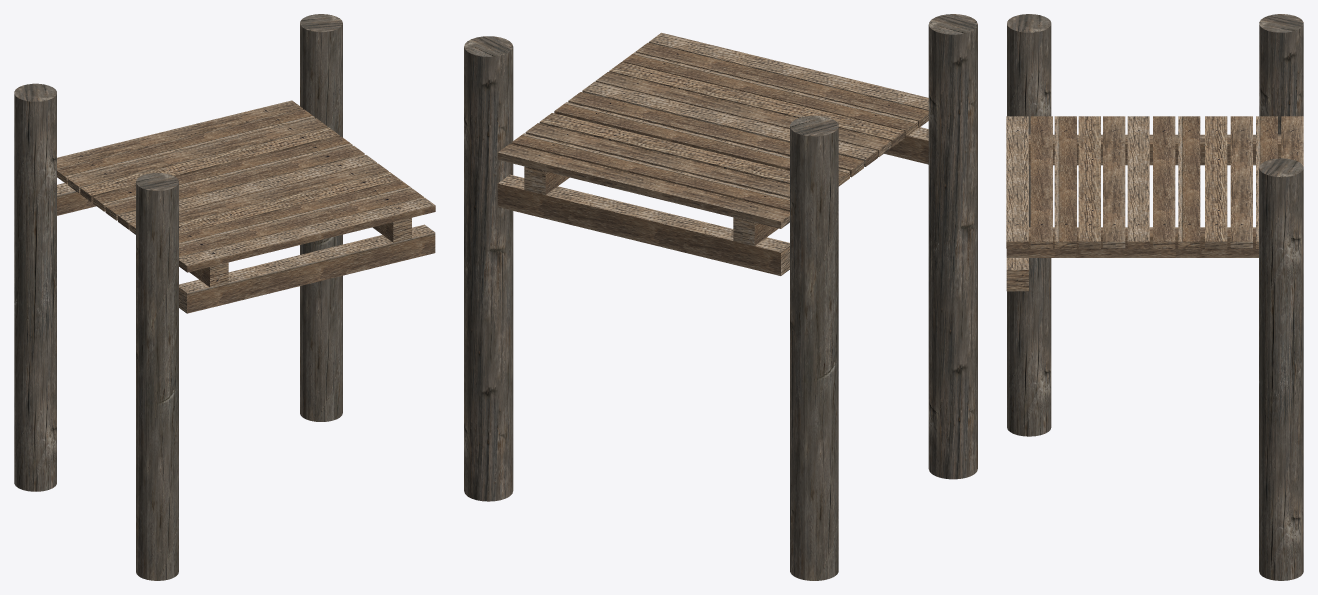
The model's file is Kit plataforma .fbx.
3 renders of one model, left to right at view 1: azimuth 30°, elevation 25°; view 2: azimuth 150°, elevation 25°; view 3: azimuth 270°, elevation 25°, orthographic. The views are drawn at different scales.
Parts seen in each view (by area): view 1: Piso madera 4x4, posteconviga, poste.001, viga; view 2: posteconviga, Piso madera 4x4, poste.001, viga; view 3: Piso madera 4x4, posteconviga, poste.001, viga.
Boxes of the visible parts, box(x1,y1,x2,y2) form: Piso madera 4x4: box(57, 100, 435, 287); posteconviga: box(14, 14, 342, 491); poste.001: box(136, 173, 178, 580); viga: box(179, 224, 435, 313); posteconviga: box(464, 36, 838, 580); Piso madera 4x4: box(497, 32, 928, 245); poste.001: box(928, 14, 977, 479); viga: box(884, 127, 928, 164); Piso madera 4x4: box(1006, 116, 1303, 257); posteconviga: box(1259, 14, 1303, 580); poste.001: box(1007, 14, 1051, 436); viga: box(1006, 165, 1028, 291).
Size of the model in its own units: 520 by 600 by 401.
Materials: 3 (2 with a texture image).
